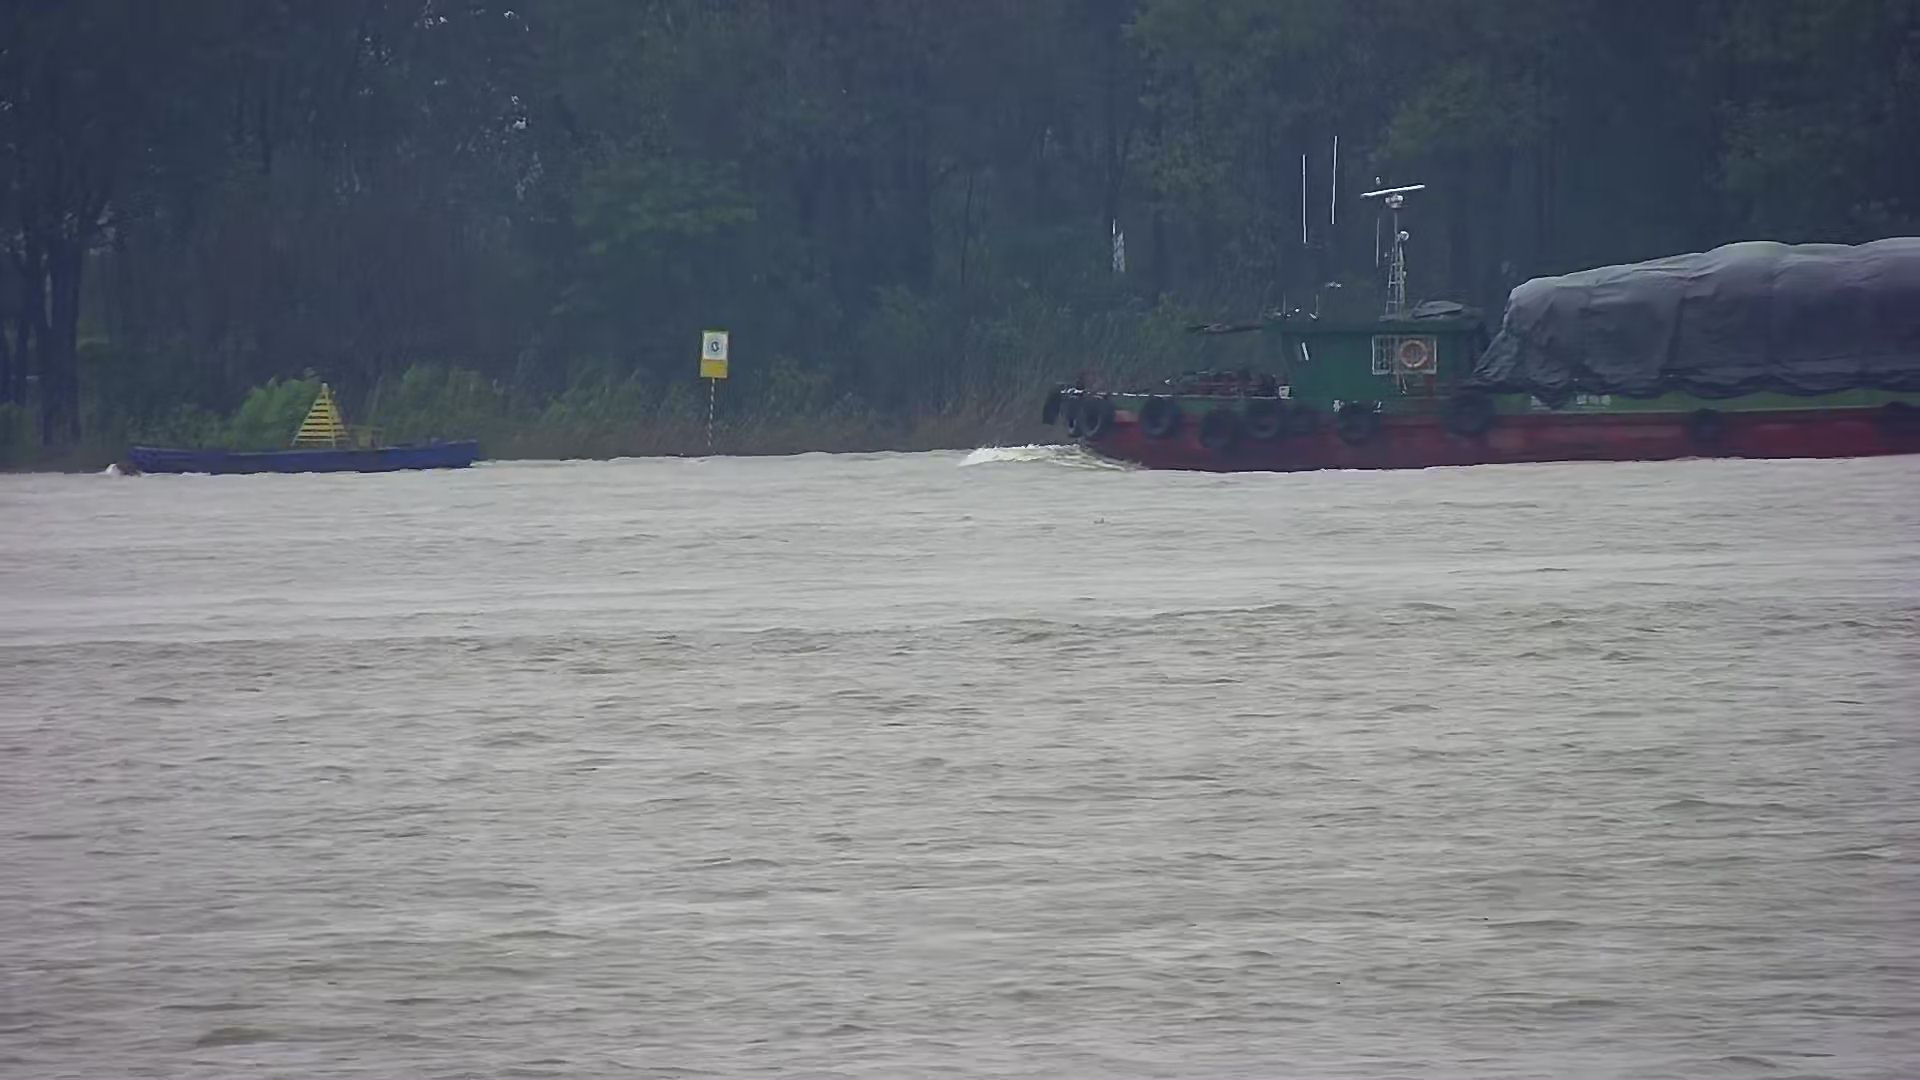boat: (131, 378, 481, 473)
mast: (699, 328, 727, 455)
ship: (1042, 181, 1920, 473)
